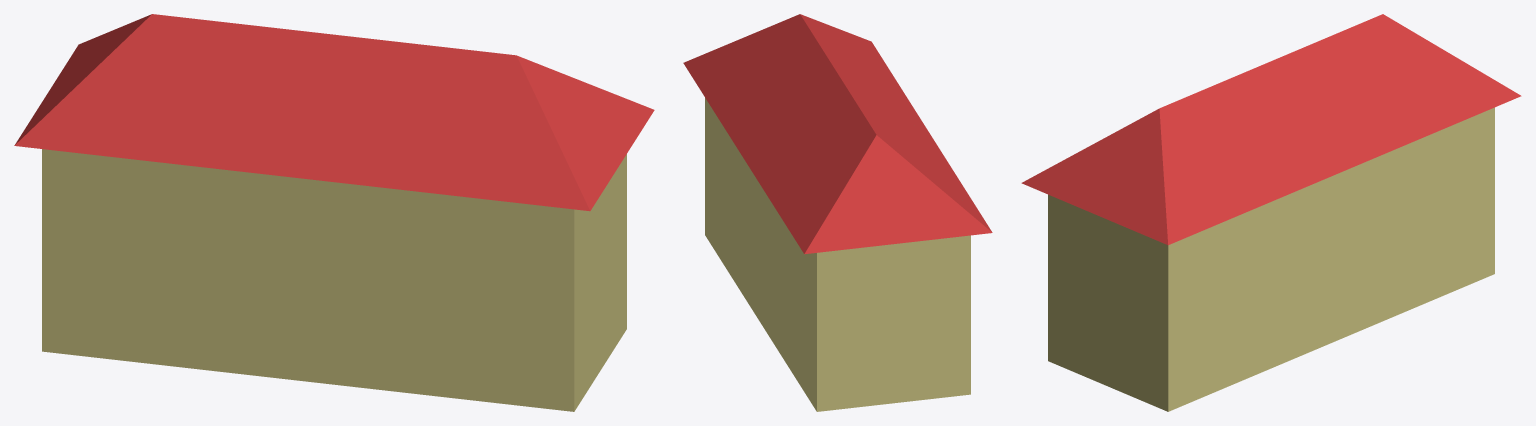
3 renders of one model, left to right at view 1: azimuth 30°, elevation 25°; view 2: azimuth 150°, elevation 25°; view 3: azimuth 270°, elevation 25°, orthographic. The views are drawn at different scales.
Visible parts, largest first — view 1: group_5, group_3, group_4; view 2: group_5, group_3, group_4; view 3: group_5, group_3, group_4.
Part boxes in pixels (<box>): group_5: <box>42,149,626,411</box>; group_3: <box>14,14,654,211</box>; group_4: <box>14,115,615,210</box>; group_5: <box>705,98,970,411</box>; group_3: <box>684,14,992,254</box>; group_4: <box>683,36,991,253</box>; group_5: <box>1048,107,1494,411</box>; group_3: <box>1022,14,1521,244</box>; group_4: <box>1021,79,1515,244</box>.
Size of the model in its own units: 26.29 by 26.3 by 14.85.
